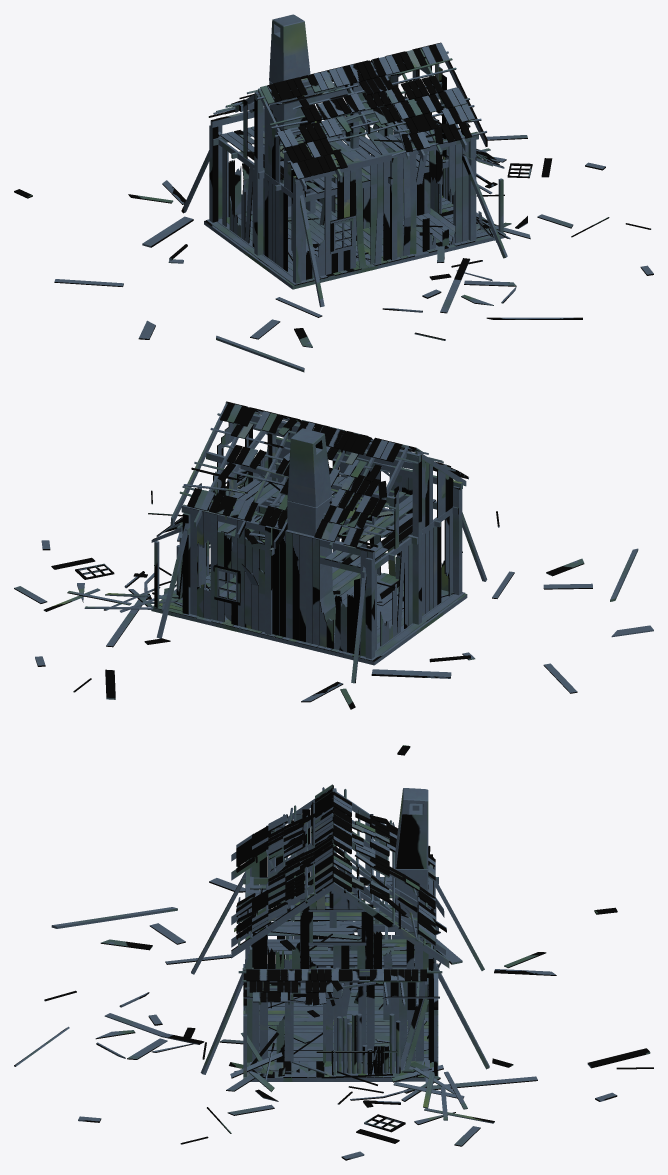
Rendered from abandoned_house.obj.
3 views of the same model, one above another, from view 1: azimuth 30°, elevation 25°; view 2: azimuth 150°, elevation 25°; view 3: azimuth 270°, elevation 25° (orthographic). The views are drawn at different scales.
Visible parts, largest first — view 1: Cube.597_Material.001_0, Cube.511_Material.001_0, Cube.425_Material.001_0, Cube.001_Material.001_0, Cube.032_Material.001_0, Cube.055_Material.001_0, Cube.058_Material.001_0, Cube.059_Material.001_0, Cube.057_Material.001_0, Cube.460_Material.001_0, Cube.452_Material.001_0, Cube.457_Material.001_0 (+11 smaller); view 2: Cube.597_Material.001_0, Cube.001_Material.001_0, Cube.511_Material.001_0, Cube.425_Material.001_0, Cube.058_Material.001_0, Cube.055_Material.001_0, Cube.052_Material.001_0, Cube.468_Material.001_0, Cube.483_Material.001_0, Cube.054_Material.001_0, Cube.493_Material.001_0, Cube.491_Material.001_0 (+15 smaller); view 3: Cube.597_Material.001_0, Cube.511_Material.001_0, Cube.042_Material.001_0, Cube.001_Material.001_0, Cube.030_Material.001_0, Cube.659_Material.001_0, Cube.610_Material.001_0, Cube.502_Material.001_0, Cube.366_Material.001_0, Cube.054_Material.001_0, Cube.607_Material.001_0, Cube.622_Material.001_0 (+1 smaller).
Part boxes in pixels (x1,y1,x2,y2): Cube.597_Material.001_0: (269, 14, 310, 83); Cube.511_Material.001_0: (204, 209, 505, 289); Cube.425_Material.001_0: (254, 94, 263, 255); Cube.001_Material.001_0: (269, 81, 315, 218); Cube.032_Material.001_0: (293, 131, 478, 183); Cube.055_Material.001_0: (209, 125, 218, 222); Cube.058_Material.001_0: (293, 180, 301, 283); Cube.059_Material.001_0: (390, 157, 397, 260); Cube.057_Material.001_0: (468, 137, 476, 240); Cube.460_Material.001_0: (403, 156, 410, 255); Cube.452_Material.001_0: (355, 168, 366, 268); Cube.457_Material.001_0: (374, 162, 383, 264); Cube.597_Material.001_0: (287, 428, 331, 507); Cube.001_Material.001_0: (287, 496, 335, 632); Cube.511_Material.001_0: (151, 566, 467, 665); Cube.425_Material.001_0: (412, 455, 421, 624); Cube.058_Material.001_0: (453, 486, 462, 595); Cube.055_Material.001_0: (365, 557, 374, 659); Cube.052_Material.001_0: (181, 504, 374, 558); Cube.468_Material.001_0: (265, 525, 272, 634); Cube.483_Material.001_0: (272, 528, 279, 635); Cube.054_Material.001_0: (182, 513, 190, 614); Cube.493_Material.001_0: (190, 508, 197, 615); Cube.491_Material.001_0: (210, 513, 217, 620); Cube.597_Material.001_0: (395, 788, 428, 868); Cube.511_Material.001_0: (243, 963, 438, 1081); Cube.042_Material.001_0: (333, 882, 449, 968); Cube.001_Material.001_0: (395, 869, 428, 1012); Cube.030_Material.001_0: (231, 881, 333, 958); Cube.659_Material.001_0: (51, 907, 177, 928); Cube.610_Material.001_0: (200, 966, 245, 1074); Cube.502_Material.001_0: (366, 976, 374, 1061); Cube.366_Material.001_0: (300, 899, 309, 968); Cube.054_Material.001_0: (428, 958, 435, 1062); Cube.607_Material.001_0: (435, 963, 489, 1069); Cube.622_Material.001_0: (104, 1013, 204, 1044).
Bounding box in the file's own units: 17.61 × 6.24 × 16.71.
